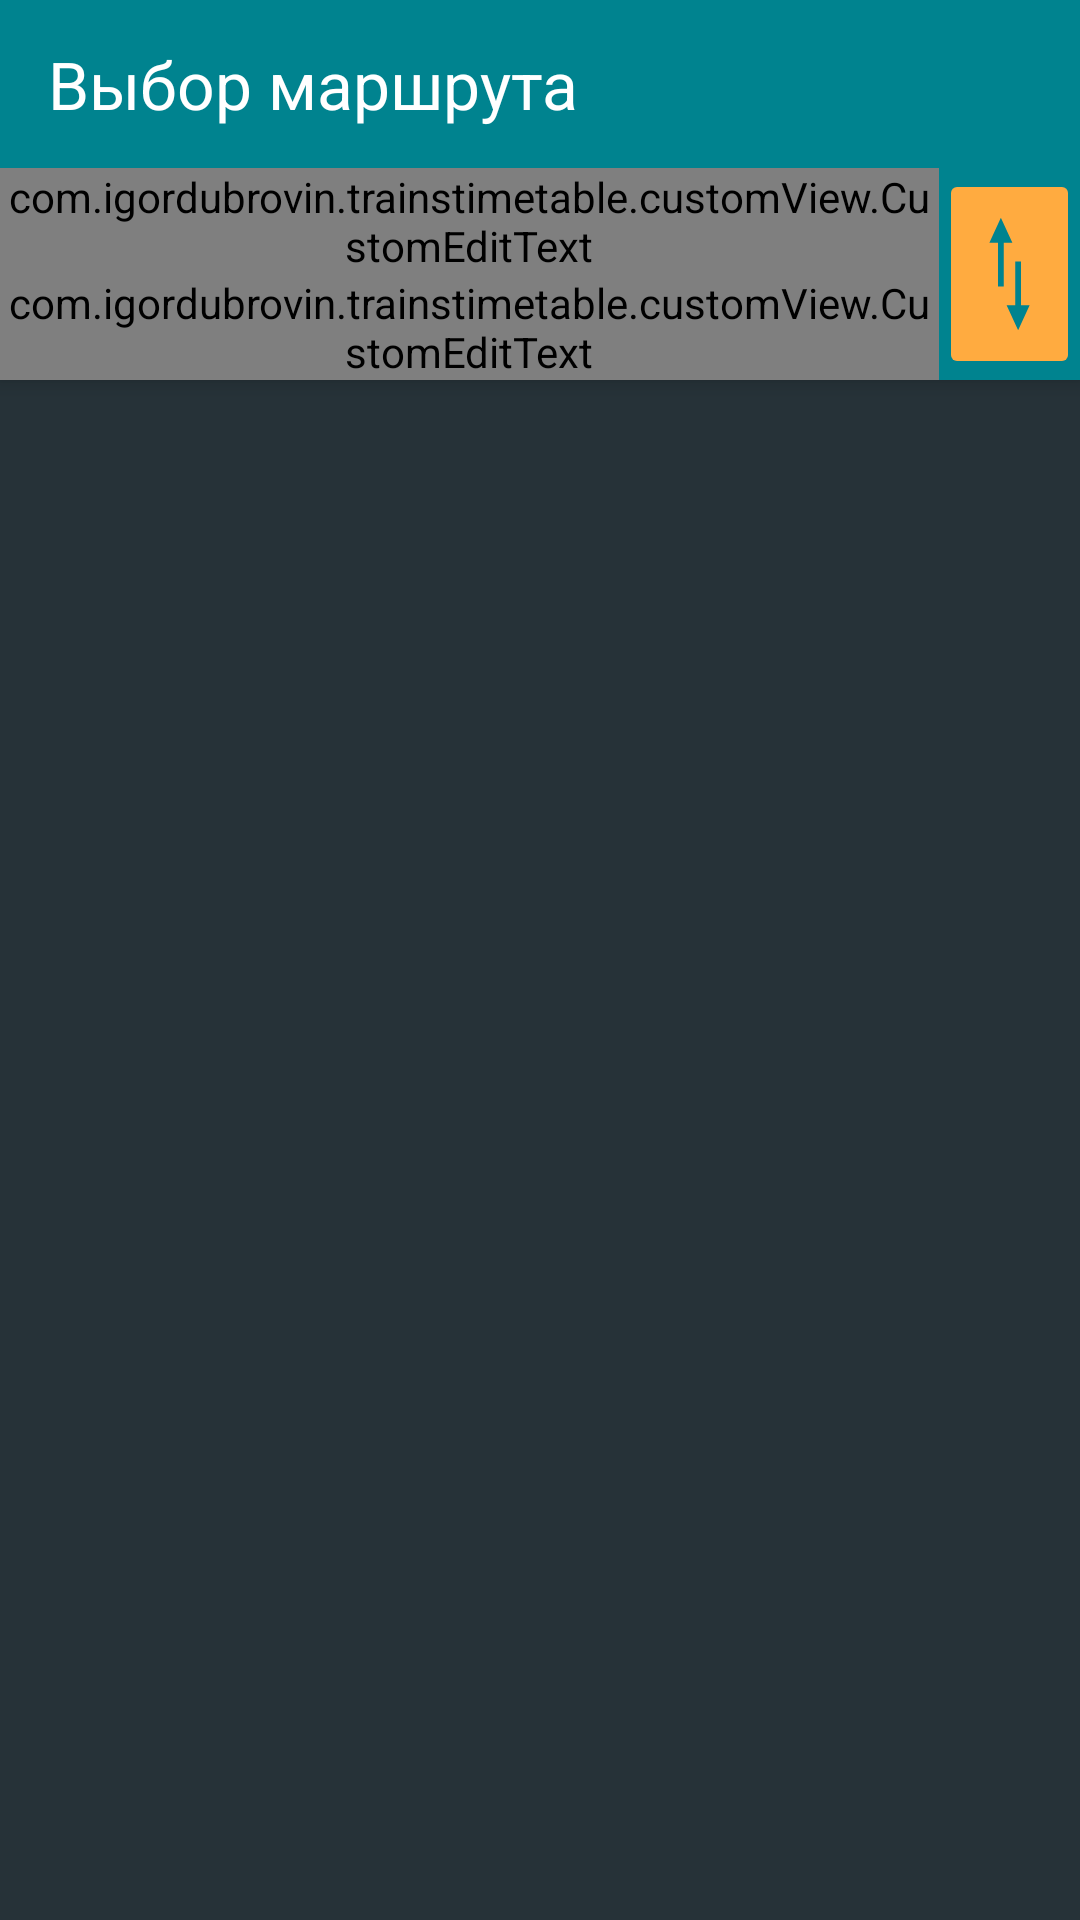

Where to tap for icons on this 1080px x 1920px app screen, as point (x, y):
swap vert: point (1009, 274)
